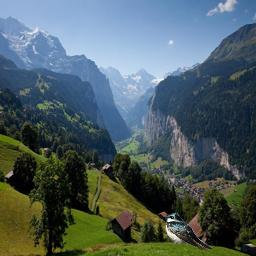Swallow: (165, 213, 213, 250)
